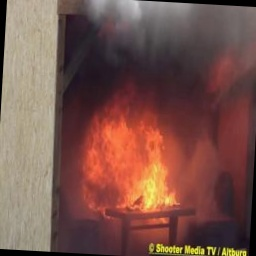fire: (77, 98, 201, 221)
